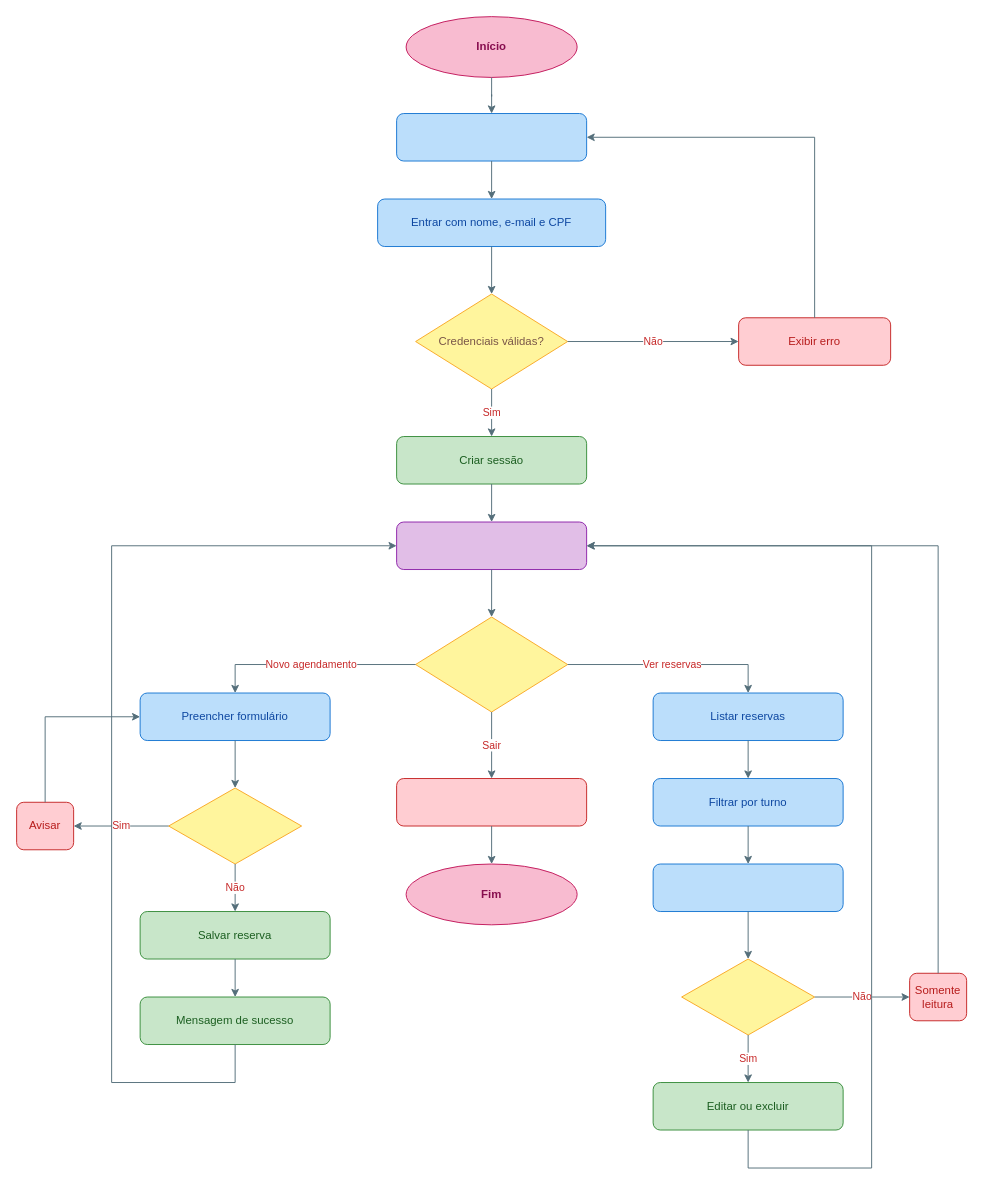
This 983x1192 diagram has some shape labels left out. Here are the shapes that lost their labels. From the top down, the centre of each, then its label:
point (491, 137): Exibir tela de login
point (491, 545): Menu principal
point (491, 664): Qual opção?
point (491, 802): Encerrar sessão
point (235, 825): Conflito de horário?
point (747, 887): Selecionar reserva
point (748, 996): É o dono?
